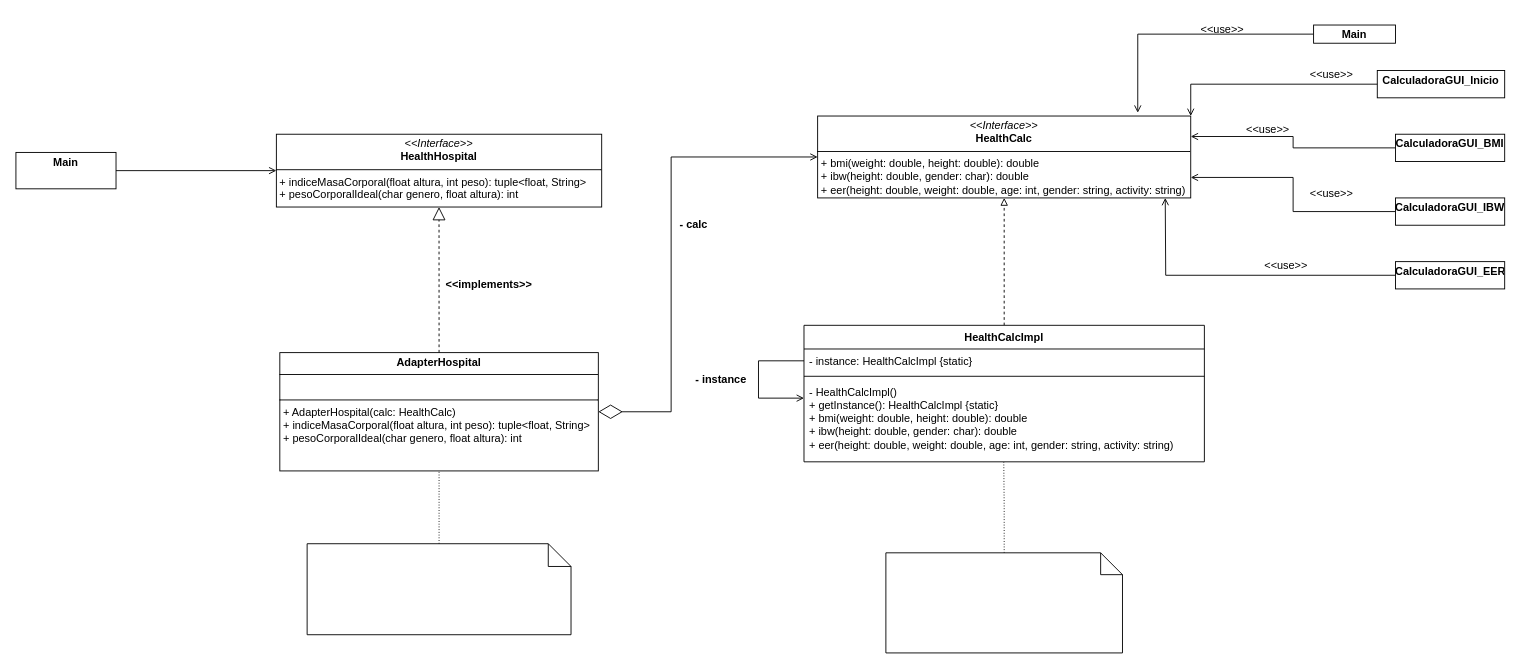
This 1521x672 diagram has some shape labels left out. The centre of each missing label's shape, as x and y in pixels:
"if (instance==null) { instance = new HealthCalcImpl() } return instance;" goes at (1003,602).
"public AdapterHospital (HealthCalc calc) { this.calc = calc; }" goes at (438,589).
